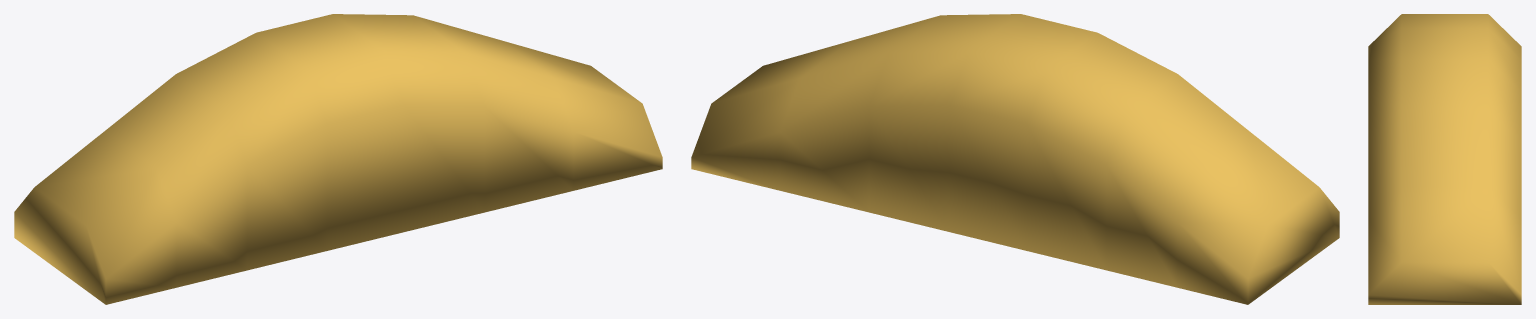
Rendered from plaque.fbx.
3 views of the same model, side by side, from view 1: azimuth 30°, elevation 25°; view 2: azimuth 150°, elevation 25°; view 3: azimuth 270°, elevation 25° (orthographic). The views are drawn at different scales.
Parts seen in each view (by area): view 1: Cube; view 2: Cube; view 3: Cube.
Part boxes in pixels (x1,y1,x2,y2): Cube: (14, 14, 662, 304); Cube: (691, 14, 1339, 304); Cube: (1368, 14, 1521, 304).
Size of the model in its own units: 703 by 200 by 200.
